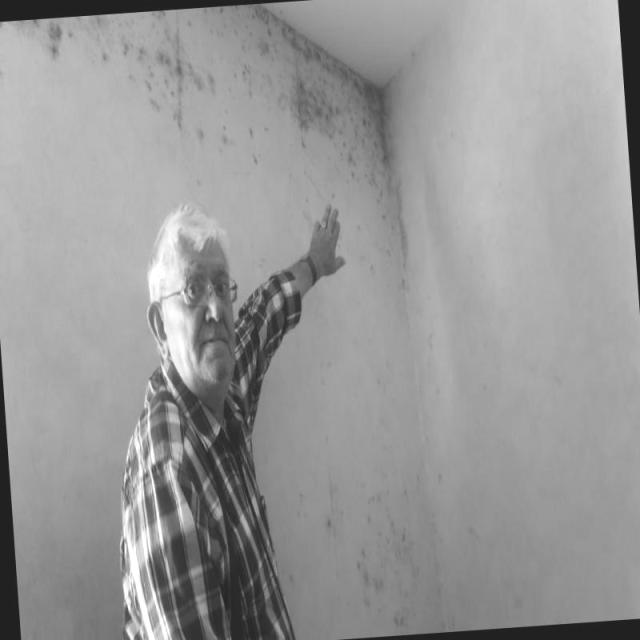stain marks: (228, 0, 418, 269), (24, 13, 221, 145)
